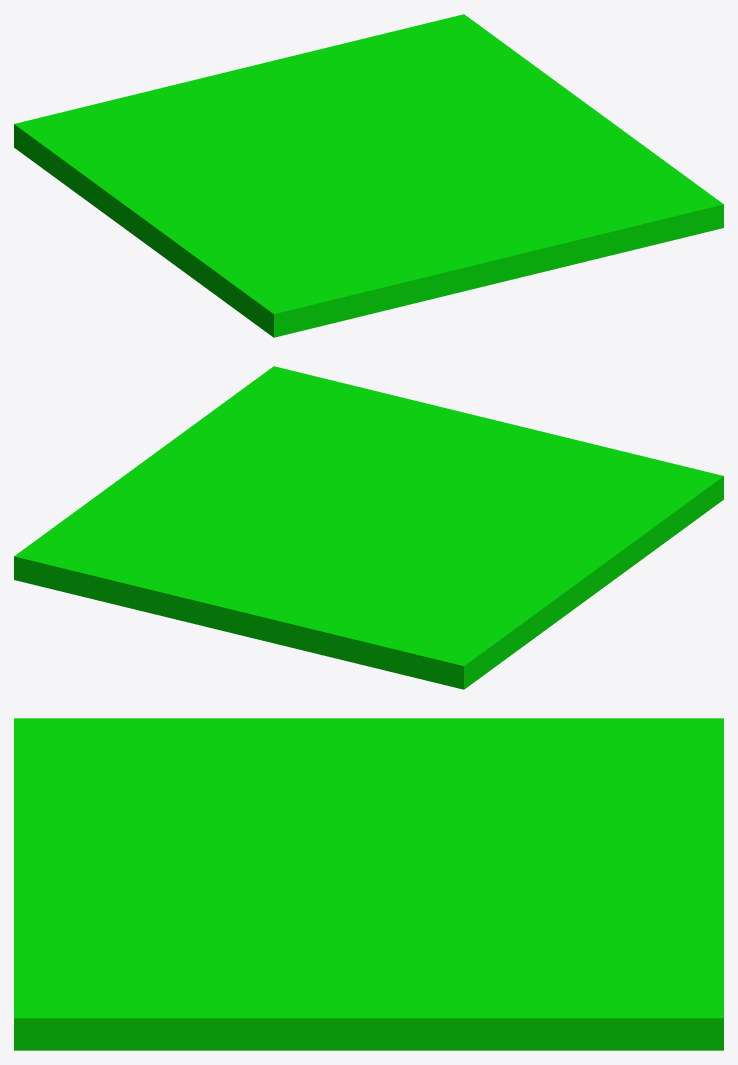
The model's file is MoonIcon.glb.
The picture shows the model from 3 angles, top to bottom: view 1: azimuth 30°, elevation 25°; view 2: azimuth 150°, elevation 25°; view 3: azimuth 270°, elevation 25°; orthographic projection. The views are drawn at different scales.
Parts seen in each view (by area): view 1: Cube; view 2: Cube; view 3: Cube.
Boxes of the visible parts, x1,y1,x2,y2 form: Cube: (14,14,723,337); Cube: (14,366,723,689); Cube: (14,718,723,1050).
Size of the model in its own units: 0.1 by 0.005 by 0.1.
